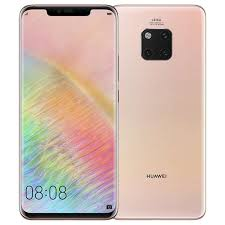huawei: (19, 1, 119, 220), (117, 1, 207, 222)
